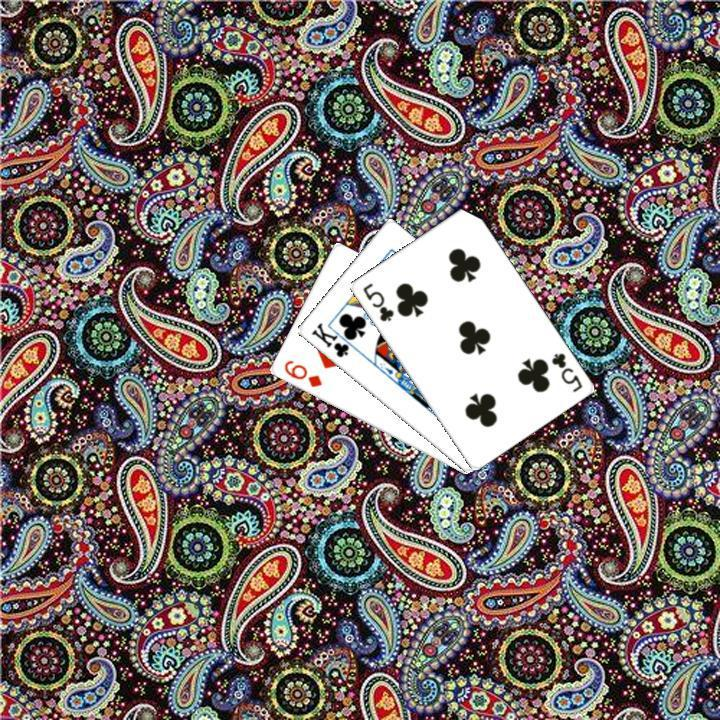5: (358, 278, 396, 324), (546, 348, 584, 394)
6: (279, 356, 324, 389)
K: (307, 318, 359, 359)
